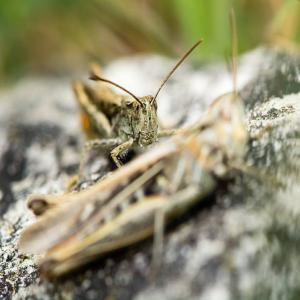locust: (70, 15, 198, 149)
